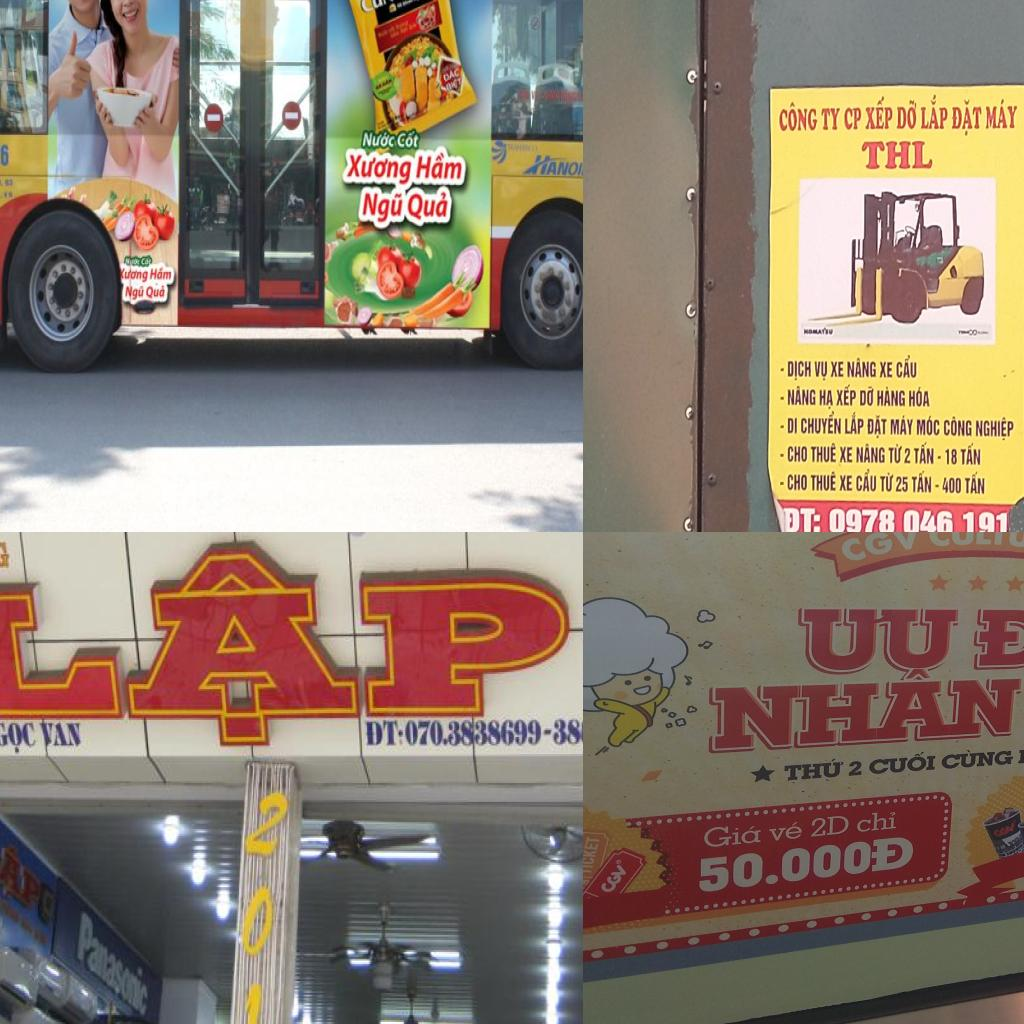text: (0, 532, 583, 728), (701, 668, 1024, 754), (694, 832, 915, 893), (791, 598, 962, 670), (405, 718, 555, 749), (0, 817, 46, 917), (242, 783, 292, 862), (971, 599, 1024, 666), (826, 532, 921, 567), (239, 884, 279, 957), (860, 138, 936, 174), (340, 149, 412, 185), (928, 532, 1024, 557), (403, 185, 453, 230), (694, 817, 766, 848), (357, 185, 407, 228), (865, 746, 937, 775), (590, 852, 636, 896), (935, 745, 1014, 770), (412, 150, 466, 186), (778, 753, 845, 782), (778, 99, 818, 136), (950, 95, 984, 138), (40, 720, 86, 751), (804, 810, 850, 840), (0, 720, 39, 754), (984, 96, 1019, 132), (364, 720, 406, 749), (852, 808, 902, 832), (975, 413, 1016, 442), (782, 503, 823, 532), (919, 92, 948, 132), (237, 983, 265, 1024), (864, 95, 894, 132), (800, 410, 842, 436), (552, 715, 583, 749), (764, 816, 804, 840), (583, 829, 602, 878), (360, 128, 397, 150), (894, 97, 918, 130), (357, 0, 405, 16), (846, 356, 877, 380), (855, 442, 886, 465), (943, 415, 973, 438), (876, 386, 906, 408), (118, 264, 149, 285), (820, 103, 842, 132), (787, 385, 816, 407), (810, 441, 837, 464), (916, 413, 940, 438), (787, 358, 813, 381), (866, 413, 888, 440), (896, 354, 918, 380), (914, 440, 936, 466), (810, 470, 836, 492), (964, 470, 986, 496), (908, 385, 932, 408), (149, 266, 174, 288), (856, 468, 878, 493), (146, 284, 170, 306), (397, 129, 419, 153), (835, 383, 857, 407), (890, 414, 914, 436), (122, 282, 147, 303), (844, 411, 864, 437), (960, 443, 982, 466), (912, 469, 932, 494), (442, 74, 464, 96), (941, 474, 963, 496), (843, 105, 862, 130), (441, 64, 462, 86), (786, 443, 809, 463), (787, 471, 808, 492), (842, 757, 866, 775), (818, 387, 835, 410), (859, 384, 875, 408), (887, 442, 903, 465), (803, 326, 834, 337), (814, 359, 828, 382), (880, 470, 894, 493), (830, 358, 844, 380), (838, 473, 853, 493), (894, 474, 909, 494), (839, 445, 854, 463), (879, 360, 893, 379), (945, 446, 958, 466), (786, 416, 798, 436), (904, 446, 912, 464), (779, 423, 785, 430), (779, 452, 785, 459), (779, 366, 785, 372), (779, 394, 785, 400), (934, 482, 940, 488), (779, 481, 785, 486), (937, 455, 942, 460)
